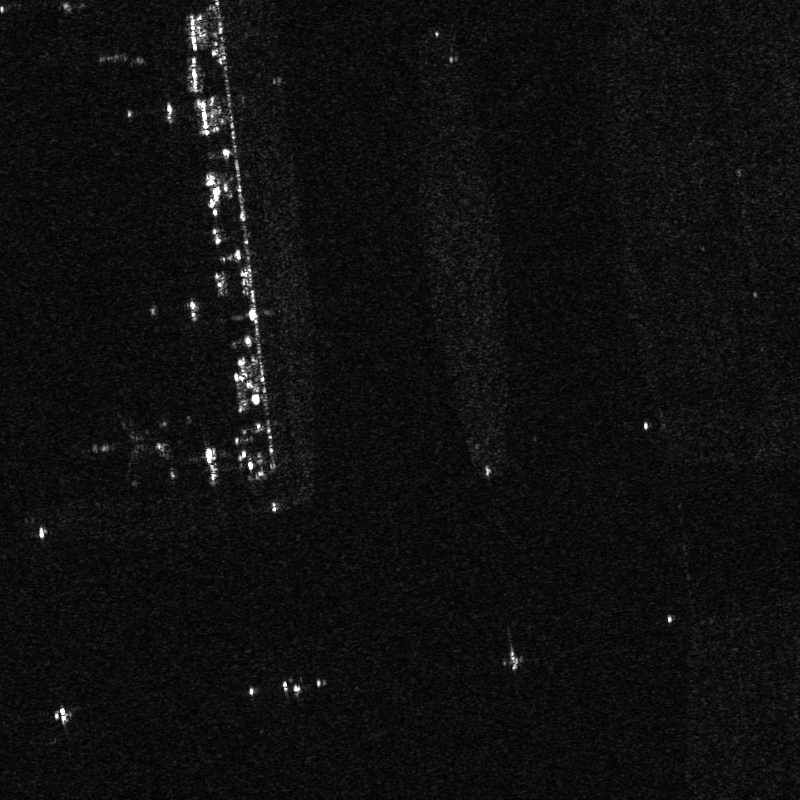Boeing787: (84, 409, 170, 490)
